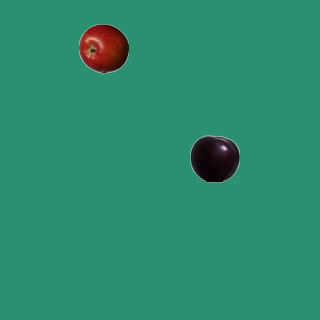Apple Braeburn: (78, 23, 128, 73)
Cherry Wax Black: (189, 133, 239, 183)
